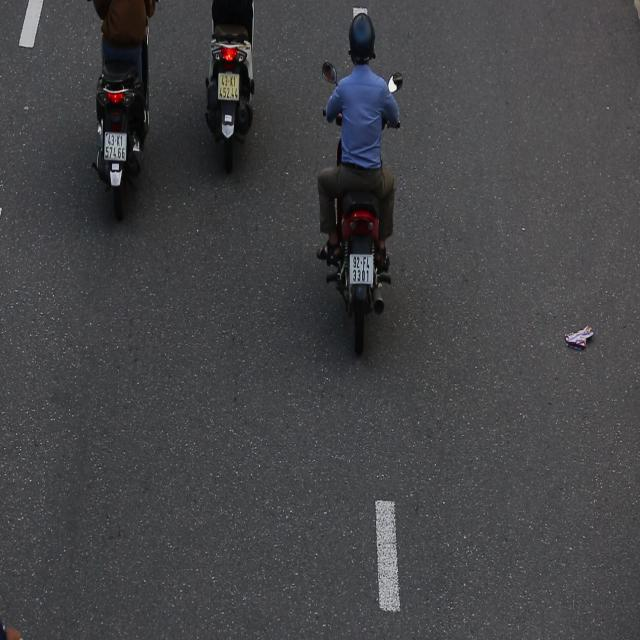motorbike: (309, 5, 410, 363)
